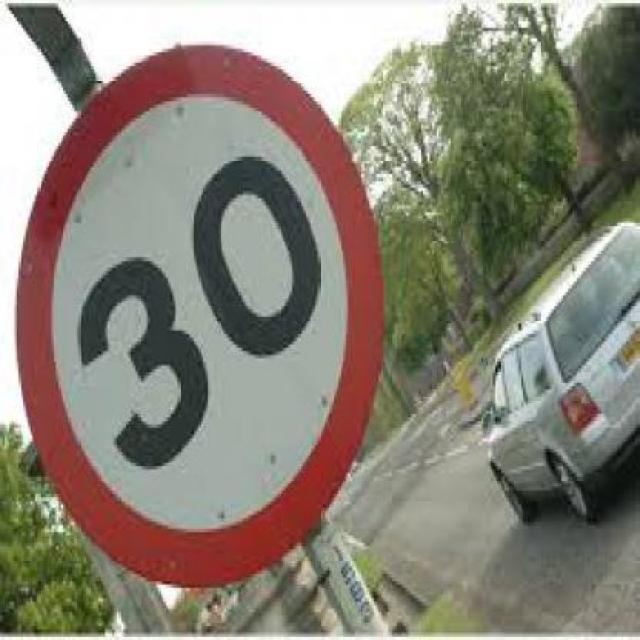forb_speed_over_30: (26, 52, 377, 585)
